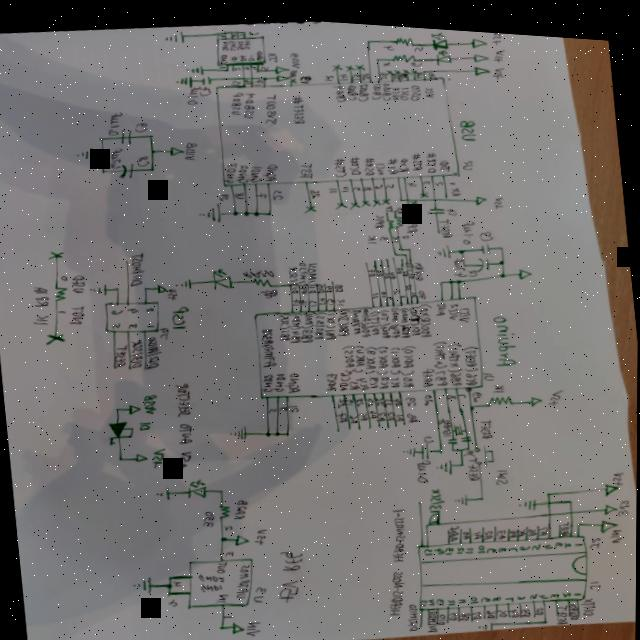capacitor: (117, 160, 137, 179), (120, 127, 135, 144), (427, 199, 448, 211), (476, 250, 491, 266), (419, 436, 432, 454), (480, 236, 493, 248), (460, 428, 475, 435), (446, 429, 459, 437), (202, 73, 213, 82)
crossover: (546, 491, 555, 498), (433, 190, 439, 196), (569, 500, 575, 506), (548, 503, 554, 508), (405, 191, 411, 196), (250, 71, 255, 75), (243, 72, 247, 74)
diode: (106, 416, 137, 445), (211, 262, 235, 288), (187, 474, 211, 497), (429, 24, 451, 45), (434, 41, 454, 61)
ground: (197, 197, 225, 222), (134, 573, 156, 594), (435, 451, 455, 470), (163, 26, 186, 42), (229, 420, 250, 437), (518, 488, 539, 505), (76, 144, 96, 161), (433, 236, 452, 253), (175, 71, 195, 87), (89, 280, 110, 295), (155, 482, 173, 499), (174, 274, 194, 288), (185, 60, 205, 73), (452, 485, 469, 500), (403, 439, 419, 453), (477, 613, 495, 625)
junction: (265, 425, 274, 434), (498, 251, 507, 259), (220, 532, 229, 540), (114, 404, 123, 412), (114, 283, 123, 291), (468, 395, 477, 403), (364, 32, 374, 39), (98, 133, 106, 141), (219, 621, 228, 628), (142, 283, 151, 290), (447, 272, 456, 279), (458, 241, 467, 248), (439, 272, 447, 279), (277, 425, 284, 433), (220, 484, 227, 491), (501, 264, 508, 271), (480, 488, 487, 495), (150, 145, 157, 152), (438, 440, 445, 447), (399, 190, 406, 197), (577, 512, 584, 519), (166, 579, 173, 586), (168, 571, 175, 578), (254, 308, 261, 314), (568, 490, 575, 496), (150, 164, 157, 170), (102, 166, 108, 173), (255, 63, 261, 70), (376, 50, 382, 57), (118, 454, 126, 459), (267, 207, 273, 213), (286, 426, 292, 432), (459, 454, 465, 460), (458, 272, 464, 278), (254, 206, 260, 212), (100, 149, 106, 155), (463, 255, 469, 261), (168, 587, 174, 593), (288, 277, 294, 283), (499, 238, 506, 243), (547, 483, 553, 488), (150, 132, 156, 137), (234, 207, 240, 212), (543, 611, 549, 616), (421, 62, 427, 67), (408, 240, 413, 245), (245, 207, 250, 212), (460, 440, 465, 445), (467, 439, 472, 444), (241, 26, 247, 30), (451, 441, 456, 445), (401, 241, 405, 245), (395, 245, 399, 249), (405, 246, 409, 250), (264, 72, 268, 76), (226, 64, 230, 68), (223, 26, 227, 30), (229, 27, 233, 31), (451, 421, 455, 425), (465, 421, 469, 425), (234, 26, 239, 29)
resistor: (388, 44, 419, 59), (488, 386, 517, 401), (53, 282, 72, 301), (217, 498, 235, 517), (392, 29, 416, 43), (252, 271, 273, 284), (394, 209, 405, 223), (386, 212, 396, 225)
source: (600, 508, 621, 525), (234, 528, 253, 545), (603, 473, 621, 490), (603, 493, 620, 508), (473, 56, 492, 69), (471, 28, 489, 41), (519, 260, 534, 274), (232, 617, 247, 631), (472, 45, 491, 56), (135, 449, 150, 461), (169, 142, 184, 154), (530, 387, 545, 399), (475, 186, 488, 198), (130, 402, 142, 413), (276, 69, 291, 77), (277, 61, 290, 70), (157, 281, 168, 290)
switch: (475, 435, 496, 460)
terminal: (45, 330, 68, 345), (48, 248, 68, 259)
text: (168, 377, 202, 467), (276, 543, 309, 600), (491, 305, 521, 361), (387, 499, 413, 558), (388, 563, 411, 612), (258, 322, 281, 366), (445, 335, 466, 381), (426, 480, 450, 520), (462, 339, 483, 383), (343, 337, 361, 387), (401, 338, 420, 384), (234, 558, 256, 596), (144, 332, 165, 368), (365, 338, 382, 382), (377, 338, 393, 384), (355, 339, 371, 385), (128, 335, 149, 368), (432, 332, 450, 370), (128, 250, 148, 284), (263, 88, 282, 122), (170, 301, 192, 330), (390, 338, 404, 383), (182, 80, 205, 105), (292, 89, 309, 121), (106, 108, 126, 135), (242, 87, 260, 117), (418, 296, 433, 332), (406, 595, 423, 626), (242, 262, 277, 277), (113, 341, 132, 368), (229, 87, 247, 115), (302, 305, 316, 339), (459, 112, 478, 137), (233, 493, 252, 518), (69, 303, 89, 326), (298, 254, 310, 292), (285, 365, 303, 390), (34, 284, 53, 307), (278, 309, 293, 338), (379, 303, 393, 334), (461, 212, 477, 238), (389, 300, 402, 332), (361, 300, 374, 332), (144, 390, 162, 413), (583, 586, 601, 609), (71, 271, 89, 294), (198, 568, 229, 581), (408, 298, 421, 329), (416, 453, 432, 478), (245, 614, 265, 634), (200, 505, 218, 527), (325, 305, 338, 335), (399, 301, 411, 333), (292, 307, 304, 339), (546, 380, 566, 399), (287, 261, 301, 288), (316, 306, 329, 335), (306, 255, 317, 289), (152, 444, 168, 467), (252, 581, 270, 601), (480, 411, 496, 433), (184, 137, 200, 159), (264, 157, 280, 179), (109, 147, 125, 169), (421, 360, 437, 382), (452, 249, 468, 271), (351, 303, 364, 330), (338, 304, 351, 331), (467, 449, 481, 474), (426, 604, 441, 627), (225, 158, 239, 182), (254, 522, 270, 542), (457, 297, 473, 317), (438, 410, 454, 430), (334, 152, 348, 174), (349, 149, 363, 171), (236, 159, 250, 181), (426, 145, 440, 167), (274, 367, 288, 389), (436, 359, 450, 381), (357, 76, 371, 98), (248, 160, 264, 179), (333, 78, 349, 97), (299, 157, 315, 175), (495, 462, 511, 480), (325, 366, 339, 386), (363, 150, 377, 170), (556, 596, 570, 616), (262, 369, 276, 389), (406, 208, 420, 228), (568, 592, 582, 612), (387, 150, 401, 170), (201, 579, 226, 590), (440, 213, 454, 232), (32, 313, 52, 326), (370, 75, 383, 95), (215, 555, 230, 572), (435, 293, 449, 311), (412, 145, 425, 164), (260, 283, 280, 295), (611, 519, 626, 535), (619, 490, 633, 507), (397, 150, 411, 167), (410, 78, 424, 95), (372, 304, 381, 330), (612, 462, 627, 477), (491, 58, 508, 71), (289, 47, 302, 64), (197, 82, 214, 95), (374, 208, 387, 225), (414, 255, 425, 275), (383, 78, 395, 96), (346, 77, 358, 95), (166, 284, 181, 298), (391, 78, 403, 95), (448, 296, 460, 313), (408, 253, 418, 273), (339, 366, 349, 386), (409, 193, 423, 207), (493, 188, 506, 203), (400, 79, 412, 95), (560, 513, 572, 529), (284, 399, 301, 410), (138, 151, 151, 165), (493, 41, 506, 55), (158, 323, 171, 337), (480, 223, 495, 235), (461, 152, 476, 164), (138, 418, 153, 430), (590, 528, 603, 541), (440, 152, 453, 165), (482, 362, 496, 374), (489, 26, 504, 37), (444, 200, 459, 211), (424, 79, 436, 92), (471, 383, 483, 396), (405, 389, 418, 401), (591, 571, 604, 583), (309, 183, 323, 194), (221, 608, 238, 617), (218, 589, 233, 599), (492, 376, 507, 386), (450, 519, 460, 534), (450, 179, 462, 191), (273, 185, 285, 197), (338, 405, 350, 417), (424, 386, 434, 400), (135, 121, 150, 130), (269, 47, 280, 59), (485, 522, 496, 534), (366, 228, 378, 239), (298, 70, 311, 80), (531, 534, 544, 544), (470, 587, 483, 597), (497, 601, 510, 611), (473, 603, 486, 613), (224, 544, 237, 554), (391, 228, 402, 239), (219, 189, 231, 199), (406, 174, 421, 182), (424, 427, 436, 437), (474, 523, 486, 533), (477, 537, 489, 547), (378, 156, 387, 169), (317, 277, 326, 290), (229, 35, 238, 48), (173, 576, 186, 585), (464, 441, 477, 450), (169, 596, 180, 606), (258, 187, 269, 197), (235, 186, 246, 196), (418, 283, 428, 294), (408, 406, 419, 416), (355, 391, 366, 401), (425, 540, 436, 550), (334, 278, 346, 287), (466, 539, 478, 548), (435, 539, 447, 548), (112, 306, 125, 314), (544, 534, 557, 542), (224, 519, 237, 527), (393, 391, 403, 401), (387, 405, 397, 415), (498, 522, 508, 532), (469, 261, 480, 270), (368, 261, 377, 272), (269, 401, 280, 410), (220, 51, 229, 62), (375, 390, 386, 399), (360, 405, 369, 416), (456, 539, 467, 548), (523, 601, 534, 610), (510, 601, 521, 610), (395, 199, 406, 208), (378, 229, 390, 237), (385, 176, 397, 184), (336, 293, 348, 301), (427, 65, 439, 73), (237, 35, 245, 47), (507, 587, 519, 595), (446, 386, 458, 394), (508, 538, 521, 545), (537, 599, 547, 608), (327, 292, 336, 302), (243, 35, 252, 45), (384, 391, 393, 401), (366, 391, 375, 401), (347, 392, 356, 402), (369, 403, 378, 413), (463, 523, 472, 533), (445, 540, 455, 549), (488, 601, 497, 611), (462, 605, 472, 614), (363, 179, 374, 187), (279, 400, 290, 408), (130, 304, 141, 312), (521, 536, 532, 544), (565, 582, 576, 590), (493, 588, 504, 596), (413, 39, 425, 46), (145, 304, 157, 311), (145, 320, 157, 327), (257, 45, 264, 57), (222, 37, 229, 49), (488, 539, 500, 546), (482, 589, 494, 596), (401, 263, 410, 272), (319, 292, 328, 301), (310, 294, 319, 303), (293, 294, 302, 303), (415, 64, 424, 73), (338, 393, 347, 402), (378, 406, 387, 415), (351, 409, 360, 418), (540, 518, 549, 527), (529, 519, 538, 528), (451, 605, 460, 614), (342, 179, 352, 187), (423, 172, 433, 180), (330, 181, 340, 189), (377, 261, 385, 271), (112, 319, 122, 327), (325, 69, 335, 77), (510, 521, 518, 531), (438, 590, 448, 598), (384, 199, 394, 207), (128, 320, 139, 327), (555, 533, 566, 540), (574, 582, 585, 589), (441, 607, 448, 618), (376, 176, 385, 184), (341, 68, 350, 76), (396, 407, 405, 415), (413, 54, 423, 61), (327, 279, 334, 289), (361, 67, 371, 74), (254, 75, 264, 82), (232, 75, 242, 82), (520, 520, 527, 530), (499, 538, 509, 545), (449, 592, 459, 599), (249, 26, 260, 32), (519, 586, 530, 592), (380, 66, 388, 74), (430, 591, 438, 599), (411, 285, 420, 292), (405, 277, 414, 284), (386, 288, 395, 295), (380, 285, 389, 292), (372, 286, 381, 293), (384, 265, 391, 274), (61, 273, 70, 280), (248, 50, 257, 57), (577, 532, 586, 539), (541, 585, 550, 592), (422, 592, 429, 601), (449, 174, 459, 180), (530, 585, 540, 591), (397, 260, 404, 268), (391, 265, 398, 273), (302, 293, 309, 301), (401, 67, 409, 74), (394, 67, 401, 75), (290, 65, 297, 73), (240, 51, 248, 58), (232, 51, 239, 59), (386, 39, 396, 44), (457, 386, 467, 391), (383, 55, 391, 61), (355, 180, 363, 186), (403, 227, 411, 233), (393, 283, 401, 289), (60, 307, 68, 313), (261, 61, 269, 67), (245, 75, 253, 81), (460, 591, 468, 597), (436, 174, 445, 179), (552, 585, 561, 590), (567, 533, 574, 539), (400, 287, 408, 292), (252, 61, 260, 66), (354, 68, 360, 74), (245, 61, 251, 67), (425, 515, 431, 521), (235, 62, 242, 67), (216, 30, 224, 34), (231, 29, 237, 34), (220, 61, 227, 65), (239, 29, 245, 33)
